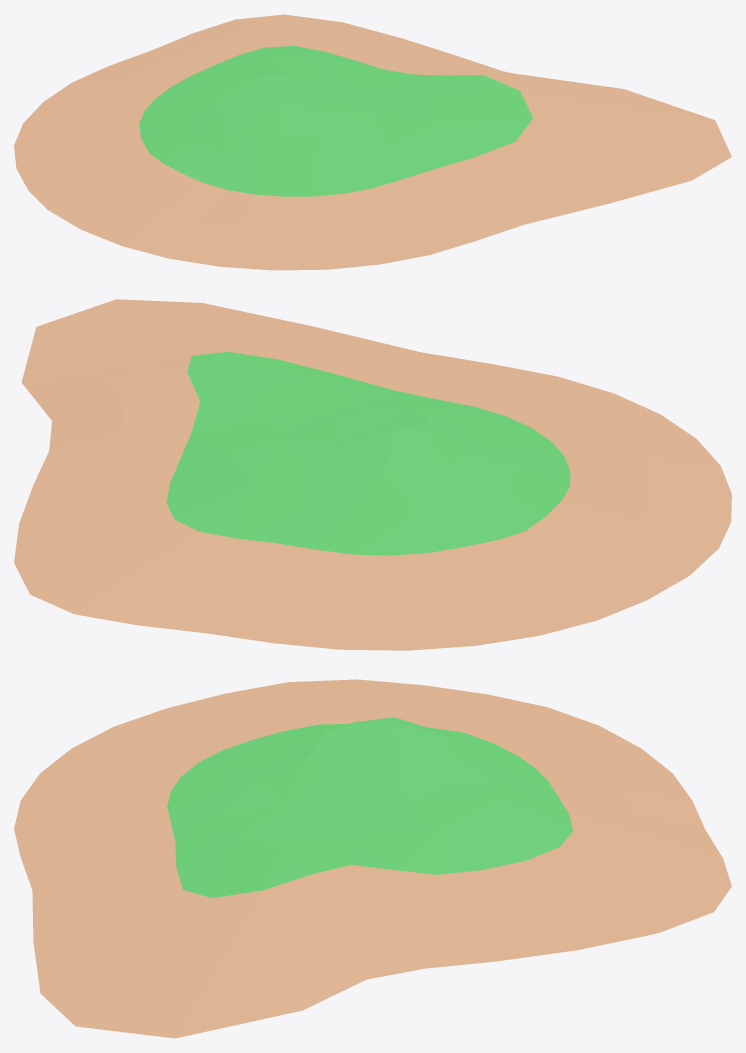
Rendered from island.glb.
3 renders of one model, top to bottom at view 1: azimuth 30°, elevation 25°; view 2: azimuth 150°, elevation 25°; view 3: azimuth 270°, elevation 25°, orthographic. The views are drawn at different scales.
Visible parts, largest first — view 1: Cylinder; view 2: Cylinder; view 3: Cylinder.
Boxes of the visible parts, box(x1,y1,x2,y2) form: Cylinder: box(14, 14, 731, 270); Cylinder: box(14, 299, 731, 650); Cylinder: box(14, 679, 731, 1038).
Size of the model in its own units: 23.07 by 2.72 by 19.53.
